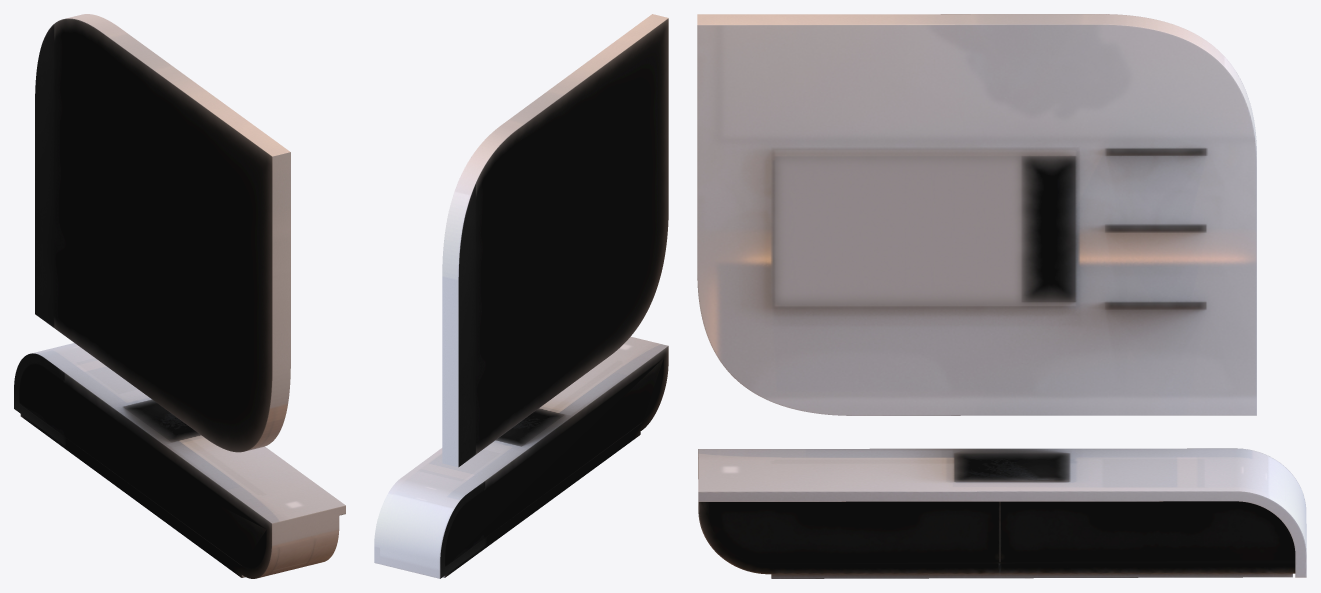
The model's file is tv_stand.gltf.
3 renders of one model, left to right at view 1: azimuth 30°, elevation 25°; view 2: azimuth 150°, elevation 25°; view 3: azimuth 270°, elevation 25°, orthographic. The views are drawn at different scales.
Visible parts, largest first — view 1: LCD; view 2: LCD; view 3: LCD.
Boxes of the visible parts, bbox=[...] form: LCD: bbox=[14, 14, 345, 578]; LCD: bbox=[374, 14, 668, 578]; LCD: bbox=[697, 14, 1306, 578].
Bounding box in the file's own units: 0.2382 × 1.35 × 1.41.
1 material, 1 textured.
